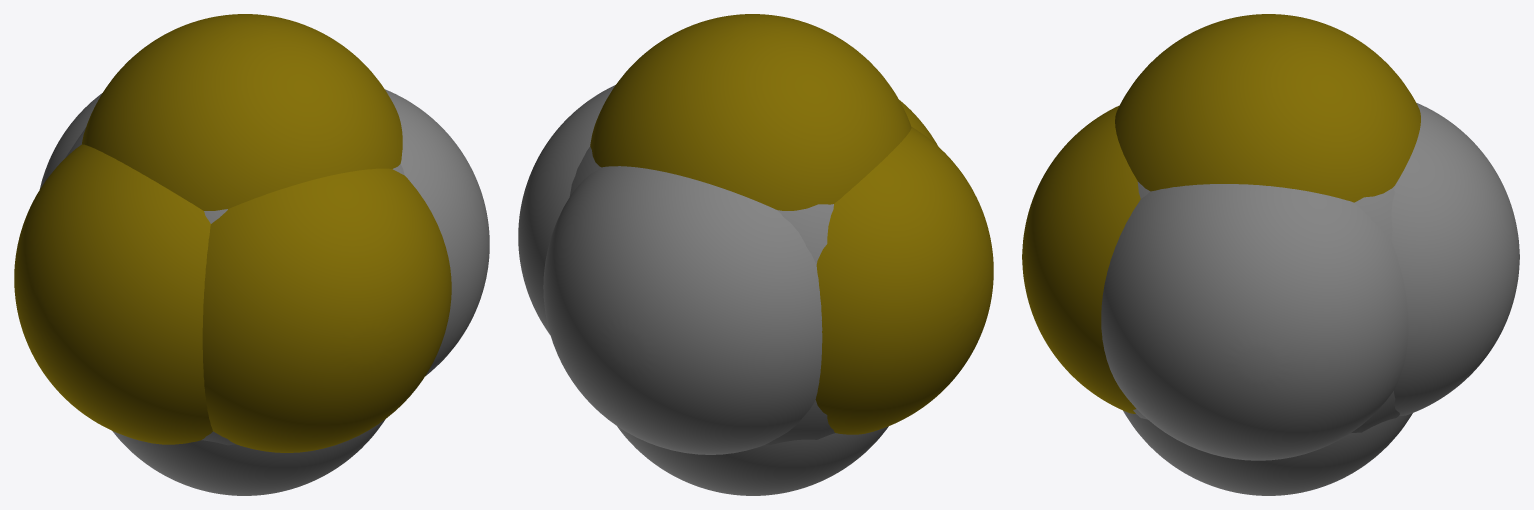
The model's file is C_Quantm_Orbitals.gltf.
The picture shows the model from 3 angles, left to right: view 1: azimuth 30°, elevation 25°; view 2: azimuth 150°, elevation 25°; view 3: azimuth 270°, elevation 25°; orthographic projection.
Parts seen in each view (by area): view 1: P_Orbital_09, P_Orbital_07, P_Orbital_012, P_Orbital_08, P_Orbital_011, P_Orbital_010, Orbital_2S1; view 2: P_Orbital_010, P_Orbital_012, P_Orbital_07, P_Orbital_011, P_Orbital_08, Orbital_2S1; view 3: P_Orbital_08, P_Orbital_012, P_Orbital_010, P_Orbital_09, P_Orbital_011, Orbital_2S1.
Part boxes in pixels (x1,y1,x2,y2): P_Orbital_09: (202, 168, 451, 452); P_Orbital_07: (14, 144, 212, 444); P_Orbital_012: (82, 14, 402, 210); P_Orbital_08: (385, 89, 489, 376); P_Orbital_011: (112, 419, 385, 495); P_Orbital_010: (39, 93, 102, 189); Orbital_2S1: (65, 127, 404, 445); P_Orbital_010: (543, 166, 822, 454); P_Orbital_012: (590, 14, 911, 210); P_Orbital_07: (815, 127, 993, 434); P_Orbital_011: (617, 426, 888, 495); P_Orbital_08: (518, 85, 615, 334); Orbital_2S1: (569, 146, 834, 445); P_Orbital_08: (1101, 184, 1408, 460); P_Orbital_012: (1115, 14, 1420, 202); P_Orbital_010: (1391, 103, 1519, 415); P_Orbital_09: (1022, 105, 1140, 413); P_Orbital_011: (1123, 410, 1412, 495); Orbital_2S1: (1133, 182, 1399, 432).
Bounding box in the file's own units: 108 × 108 × 108.
Materials: 6 (6 with a texture image).
